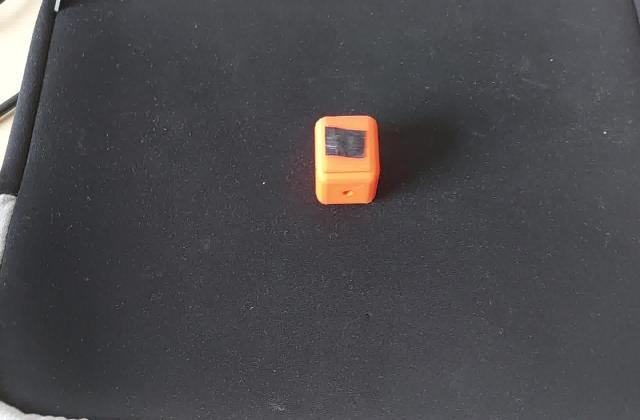black: (322, 124, 373, 160)
sticker: (311, 111, 386, 209)
